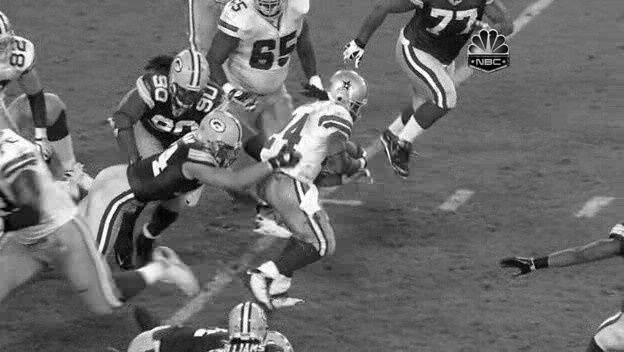person: (330, 68, 366, 114), (329, 68, 365, 114), (331, 68, 367, 114), (330, 67, 366, 113), (330, 69, 366, 115)
target_negative: (240, 183, 603, 309), (321, 83, 505, 195), (434, 171, 514, 301), (585, 68, 611, 276), (276, 255, 303, 291), (575, 108, 579, 249)
